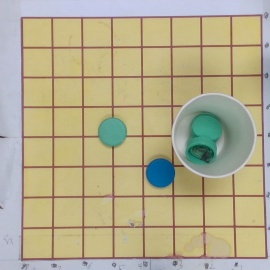blue: (146, 157, 176, 188)
cup_green: (172, 92, 257, 180)
green: (98, 118, 127, 149)
